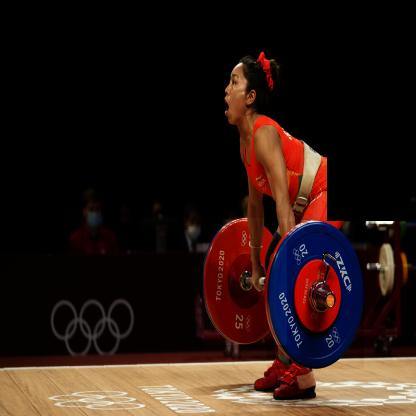barbell: (268, 222, 365, 370), (204, 219, 288, 346)
